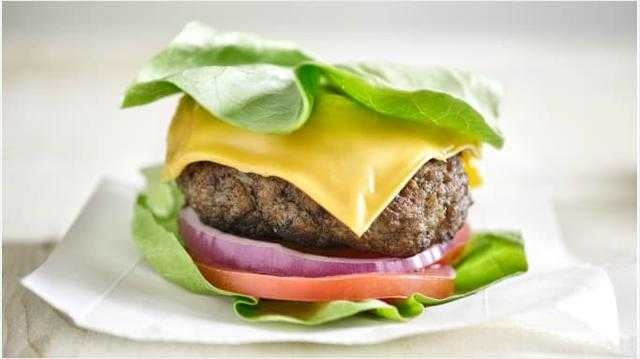hamburger: (165, 82, 485, 305)
